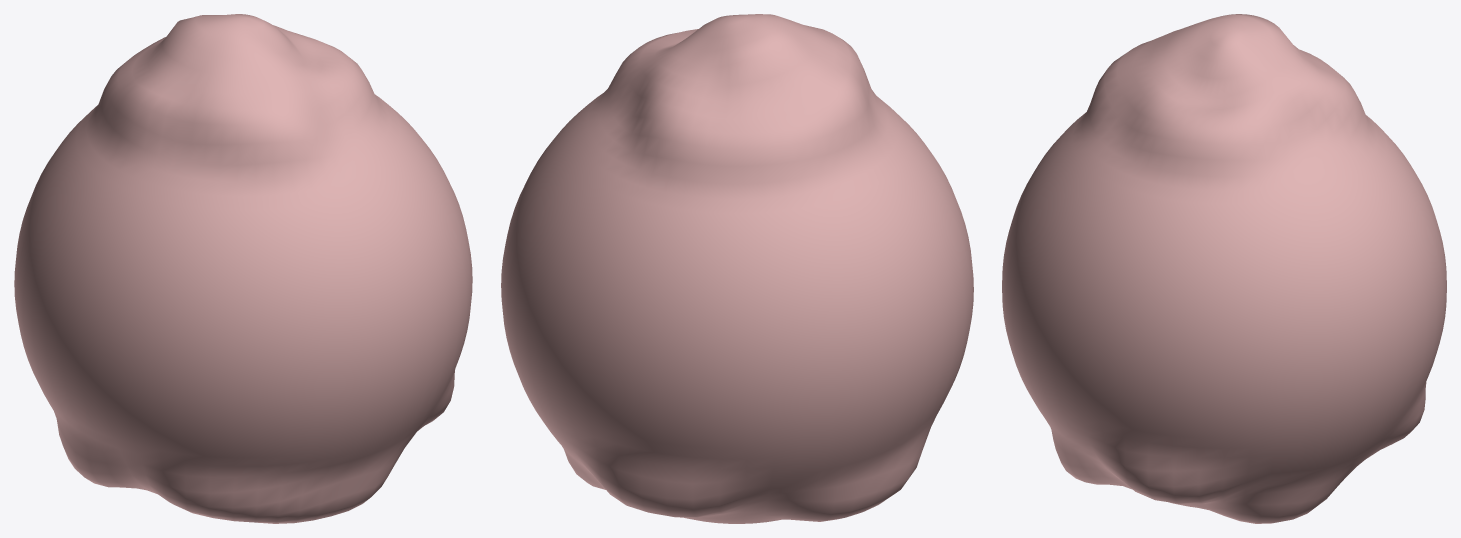
File: Testing blendshape between.fbx
3 renders of one model, left to right at view 1: azimuth 30°, elevation 25°; view 2: azimuth 150°, elevation 25°; view 3: azimuth 270°, elevation 25°, orthographic. The views are drawn at different scales.
Visible parts, largest first — view 1: test_stage_1; view 2: test_stage_1; view 3: test_stage_1.
Part boxes in pixels (x1,y1,x2,y2): test_stage_1: (14, 14, 472, 523); test_stage_1: (501, 14, 973, 523); test_stage_1: (1002, 14, 1446, 523).
Bounding box in the file's own units: 0.1411 × 0.1602 × 0.1408.
